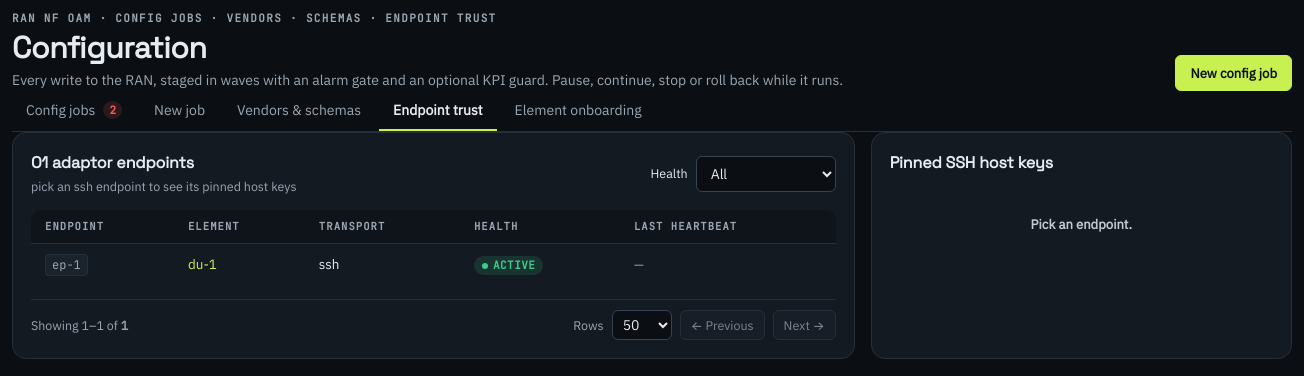
Scenario: Configuration page › alerts on an ssh endpoint with no pinned host key
Click the cell "ssh".
click(329, 264)  # box [305,243,460,285]
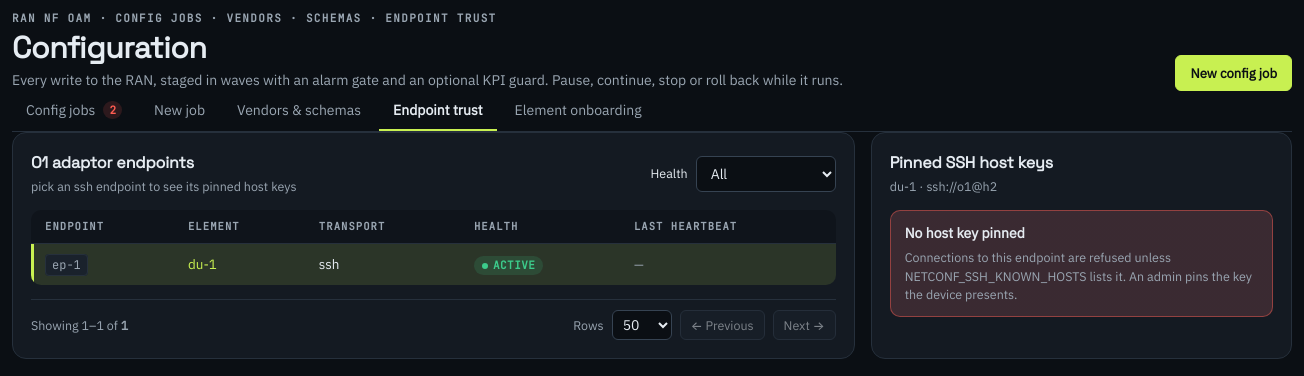
Check: the text "No host key pinned" is shown, box [905,224,1025,242]
